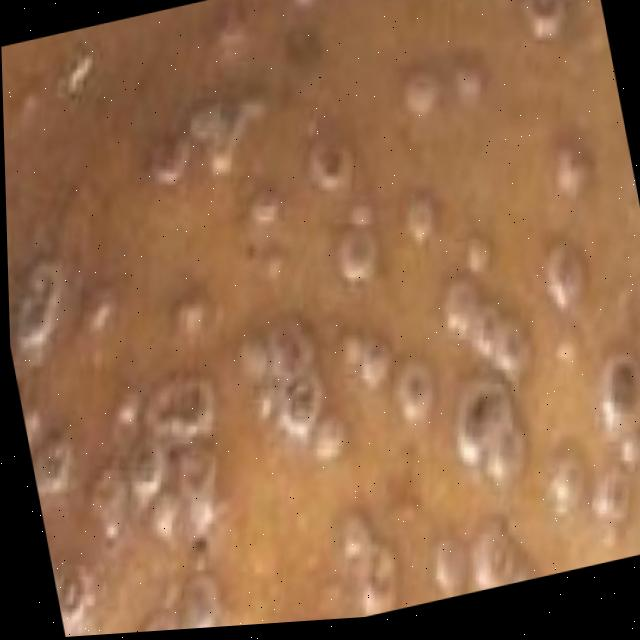Eczema: (5, 0, 640, 640)
